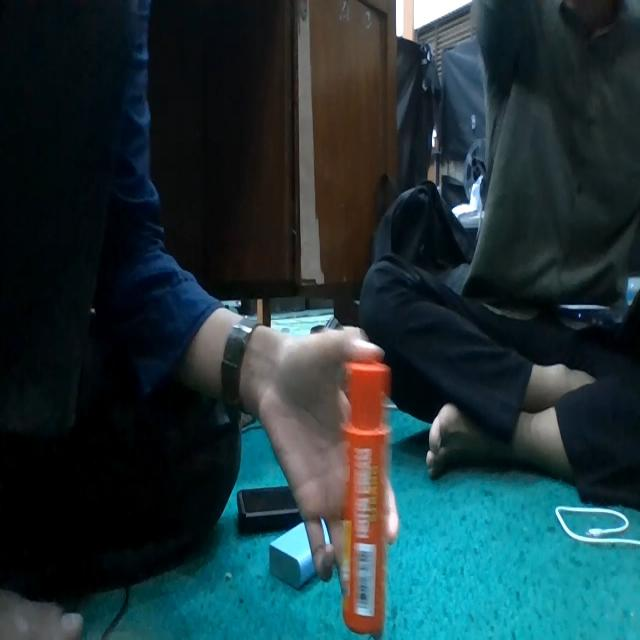Boncabe: (338, 346, 390, 636)
Powerbank: (269, 524, 316, 589)
